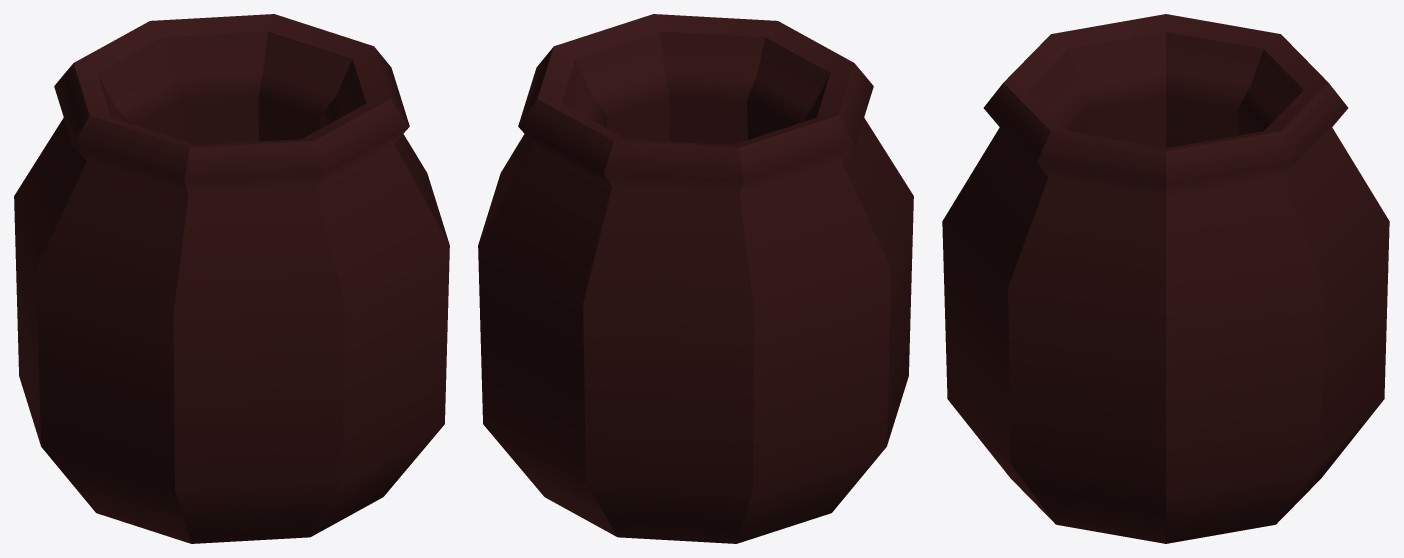
Rendered from Jar_pot.fbx.
3 views of the same model, side by side, from view 1: azimuth 30°, elevation 25°; view 2: azimuth 150°, elevation 25°; view 3: azimuth 270°, elevation 25° (orthographic).
Parts seen in each view (by area): view 1: Jar_Pot; view 2: Jar_Pot; view 3: Jar_Pot.
Part boxes in pixels (x1=…): Jar_Pot: x1=14, y1=14, x2=449, y2=543; Jar_Pot: x1=478, y1=14, x2=913, y2=543; Jar_Pot: x1=942, y1=14, x2=1389, y2=543.
Size of the model in its own units: 1.56 by 1.53 by 1.56.
